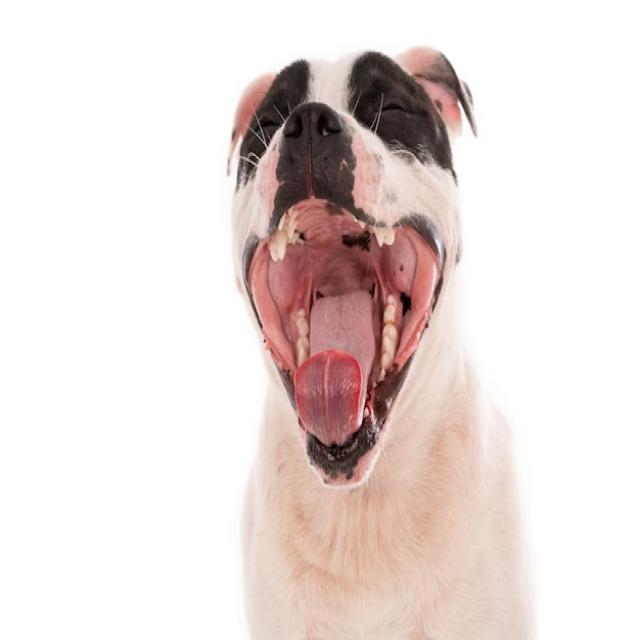Dog: (226, 46, 538, 640)
